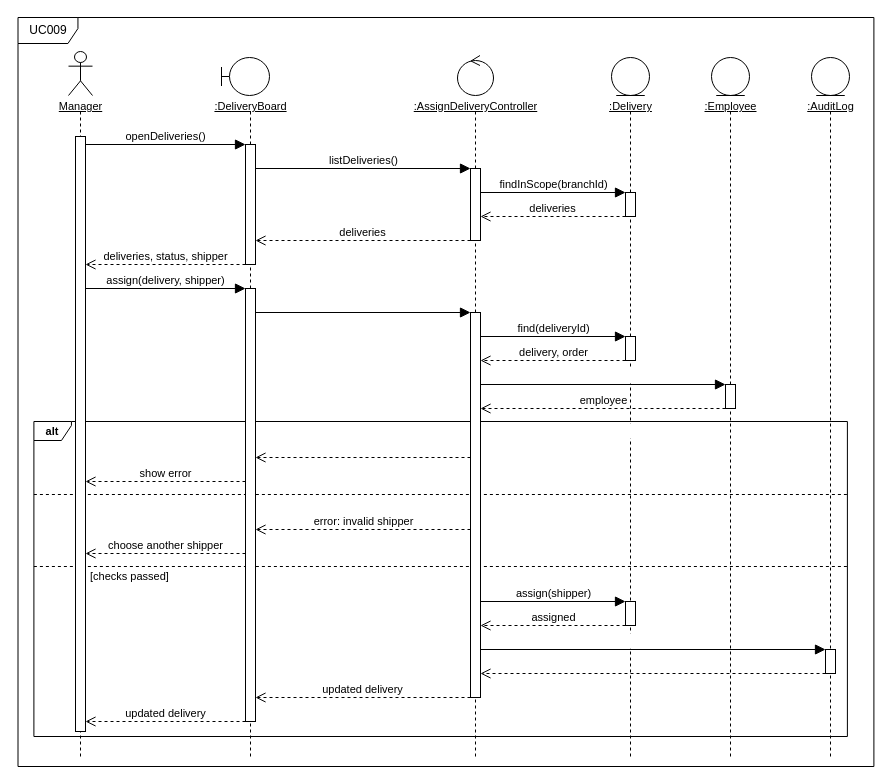
This 891x784 diagram has some shape labels left out. The box of each missing label's shape, as (x1, y1, x2, y2) in pixels:
[not an active shipper of the branch]: (259, 496, 441, 511)
[other branch or order not a ready delivery]: (484, 423, 700, 438)
assignShipper(deliveryId, shipperId): (271, 296, 454, 311)
entry: (638, 657, 667, 672)
error: reason: (328, 441, 396, 456)
find(shipperId): (565, 368, 640, 383)
record(assignment): (602, 633, 703, 648)
